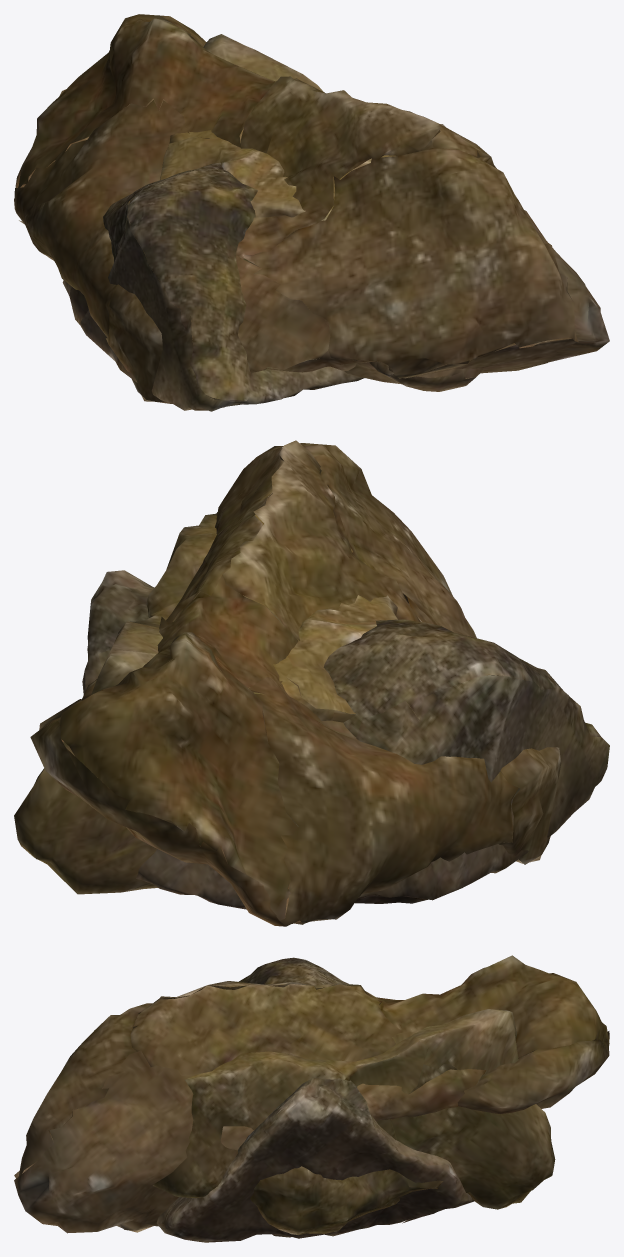
Rendered from moss-rocks.glb.
3 renders of one model, top to bottom at view 1: azimuth 30°, elevation 25°; view 2: azimuth 150°, elevation 25°; view 3: azimuth 270°, elevation 25°, orthographic. The views are drawn at different scales.
Visible parts, largest first — view 1: moss_rock_1, moss_rock_2, moss_rock_3; view 2: moss_rock_1, moss_rock_2, moss_rock_3; view 3: moss_rock_1, moss_rock_3, moss_rock_2.
Boxes of the visible parts, box(x1,y1,x2,y2) form: moss_rock_1: box(14, 14, 609, 403); moss_rock_2: box(62, 124, 445, 411); moss_rock_3: box(139, 34, 498, 391); moss_rock_1: box(30, 440, 561, 926); moss_rock_2: box(82, 570, 609, 909); moss_rock_3: box(14, 513, 513, 894); moss_rock_1: box(14, 955, 609, 1237); moss_rock_3: box(153, 1009, 555, 1234); moss_rock_2: box(156, 957, 474, 1242).
Bounding box in the file's own units: 2.24 × 1.48 × 3.38.
Materials: 1 (1 with a texture image).
